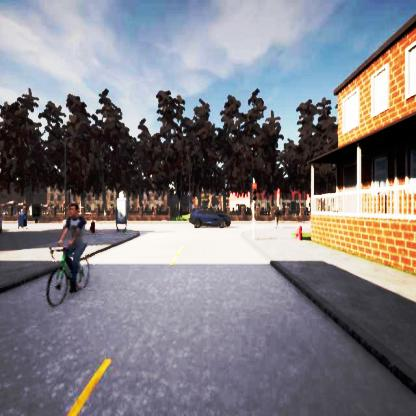bike: (47, 201, 92, 308)
vehicle: (189, 211, 230, 228)
